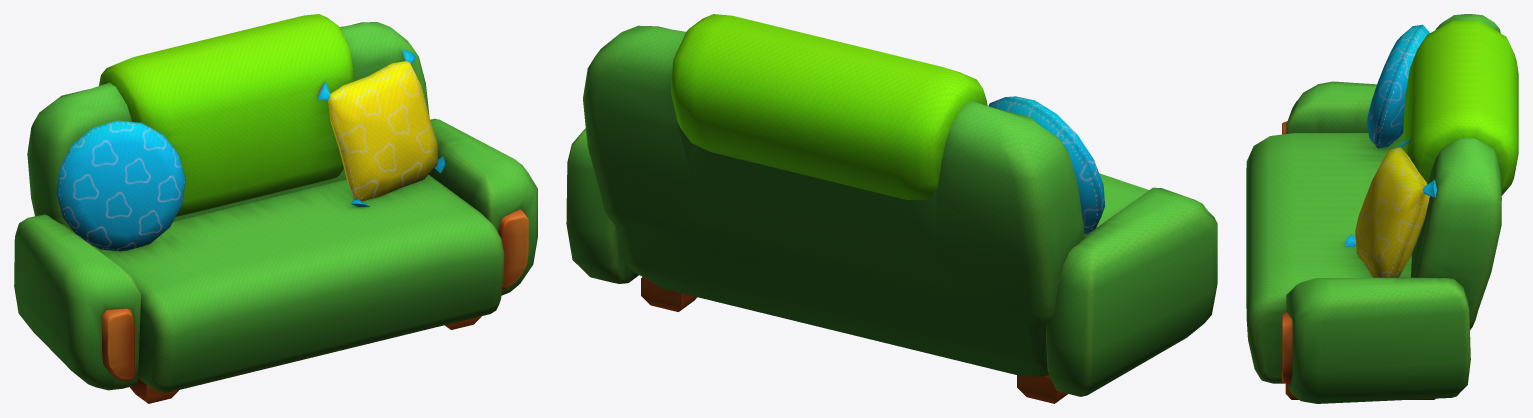
The model's file is Sofa01.FBX.
3 views of the same model, side by side, from view 1: azimuth 30°, elevation 25°; view 2: azimuth 150°, elevation 25°; view 3: azimuth 270°, elevation 25° (orthographic). The views are drawn at different scales.
Parts seen in each view (by area): view 1: Sofa01; view 2: Sofa01; view 3: Sofa01.
Part boxes in pixels (x1=…): Sofa01: x1=14, y1=14, x2=537, y2=403; Sofa01: x1=566, y1=14, x2=1217, y2=403; Sofa01: x1=1246, y1=14, x2=1518, y2=403.
Size of what is drawn, in the model's own units: 2.15 by 1.14 by 1.1.
